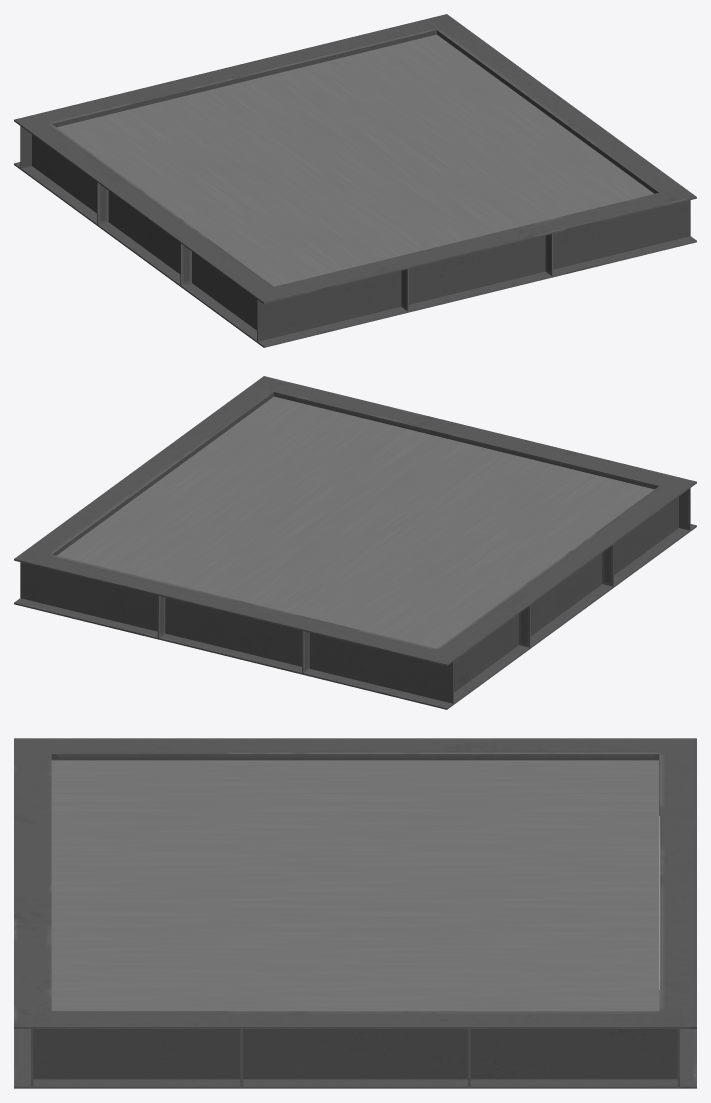
File: SM05_Architecture_MezzanineFloor_01_Straight_01.fbx
3 views of the same model, one above another, from view 1: azimuth 30°, elevation 25°; view 2: azimuth 150°, elevation 25°; view 3: azimuth 270°, elevation 25° (orthographic). The views are drawn at different scales.
Visible parts, largest first — view 1: SM05_Architecture_MezzanineFloor_01_Straight_01; view 2: SM05_Architecture_MezzanineFloor_01_Straight_01; view 3: SM05_Architecture_MezzanineFloor_01_Straight_01.
Boxes of the visible parts, box(x1,y1,x2,y2) form: SM05_Architecture_MezzanineFloor_01_Straight_01: box(14, 14, 696, 347); SM05_Architecture_MezzanineFloor_01_Straight_01: box(14, 376, 696, 709); SM05_Architecture_MezzanineFloor_01_Straight_01: box(14, 738, 696, 1088).
Bounding box in the file's own units: 1 × 0.1 × 1.
